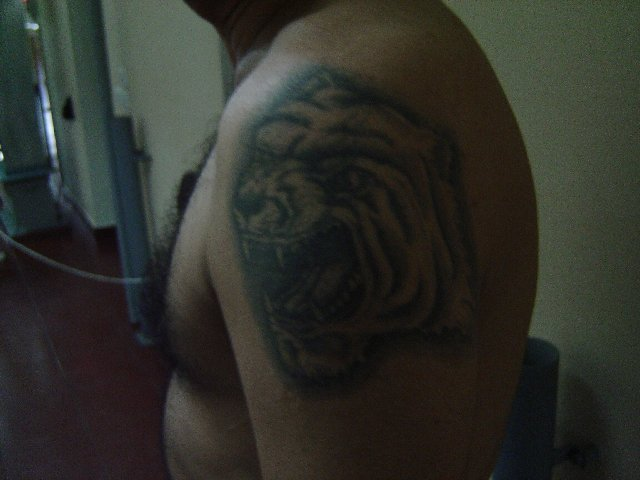tatu5_tigr: (225, 67, 485, 394)
